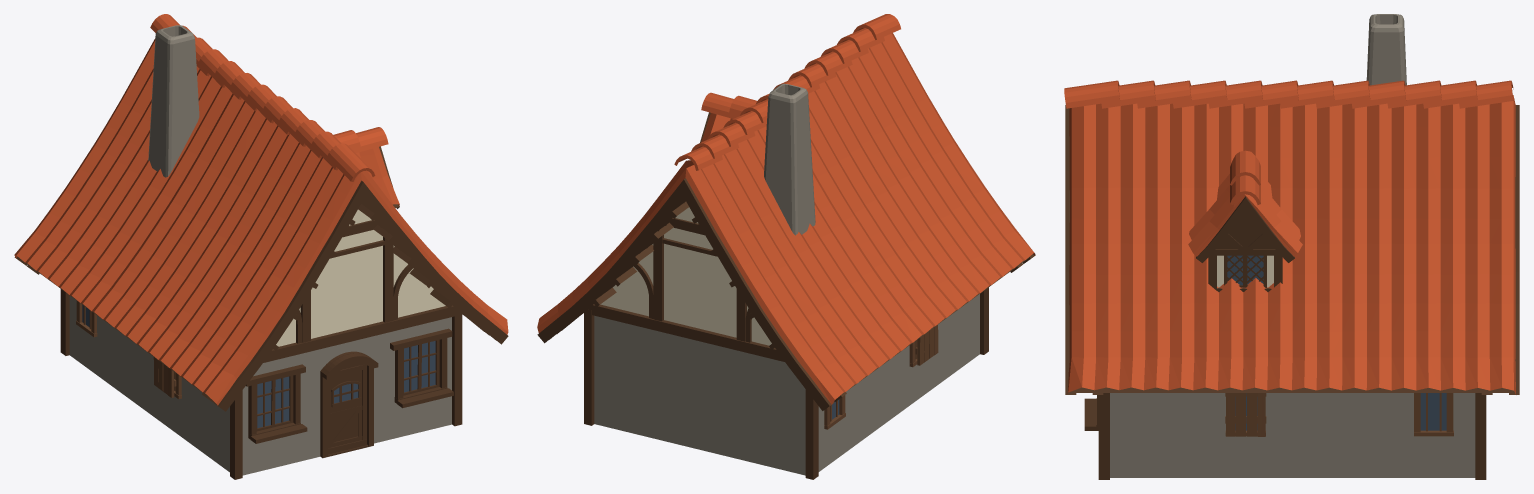
File: cottage_long.obj
3 renders of one model, left to right at view 1: azimuth 30°, elevation 25°; view 2: azimuth 150°, elevation 25°; view 3: azimuth 270°, elevation 25°, orthographic. The views are drawn at different scales.
Size of the model in its own units: 8.25 by 8.8 by 9.68.
